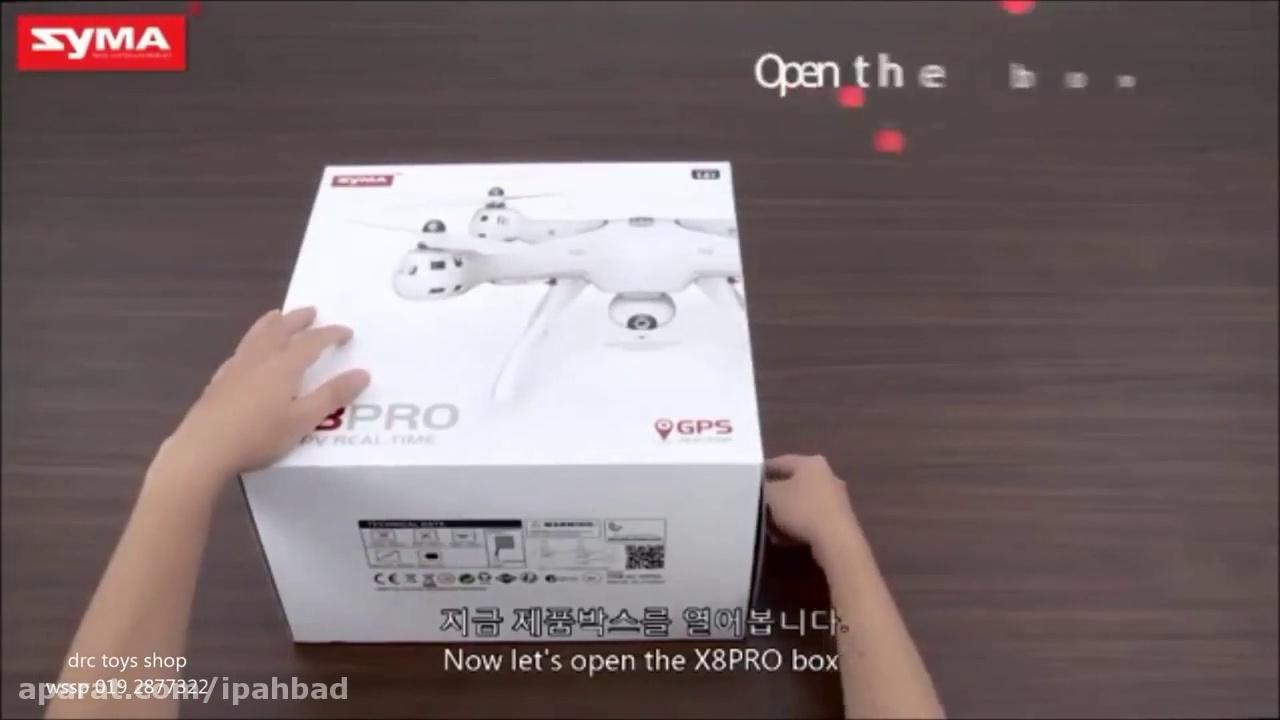drone: (343, 185, 744, 397)
